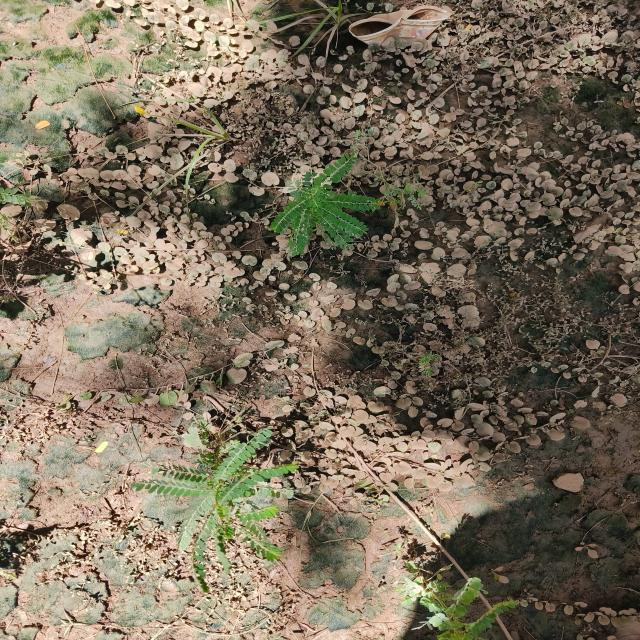weed: (114, 432, 293, 559), (263, 156, 391, 265), (393, 575, 510, 639)
